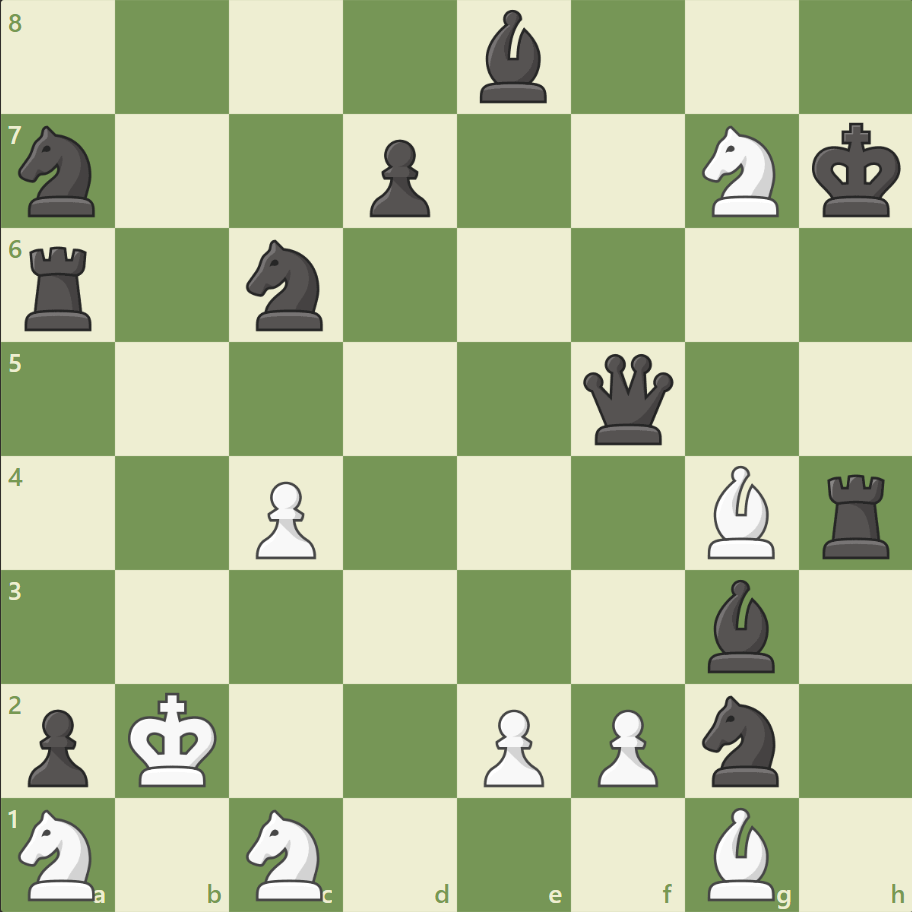B: (698, 460, 782, 563), (698, 801, 782, 904)
K: (124, 685, 224, 793)
N: (692, 121, 789, 223), (11, 802, 108, 904), (238, 802, 335, 904)
P: (247, 473, 322, 564), (474, 700, 549, 791), (588, 700, 662, 791)
b: (471, 6, 555, 109), (698, 574, 782, 676)
k: (806, 117, 906, 225)
n: (238, 234, 335, 337), (692, 688, 789, 791), (11, 121, 108, 223)
p: (20, 700, 95, 791), (361, 132, 435, 223)
q: (578, 349, 677, 449)
r: (19, 239, 102, 336), (814, 466, 897, 563)
